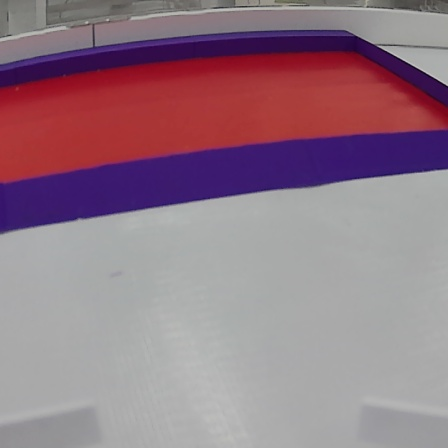red_aim: (1, 32, 448, 235)
